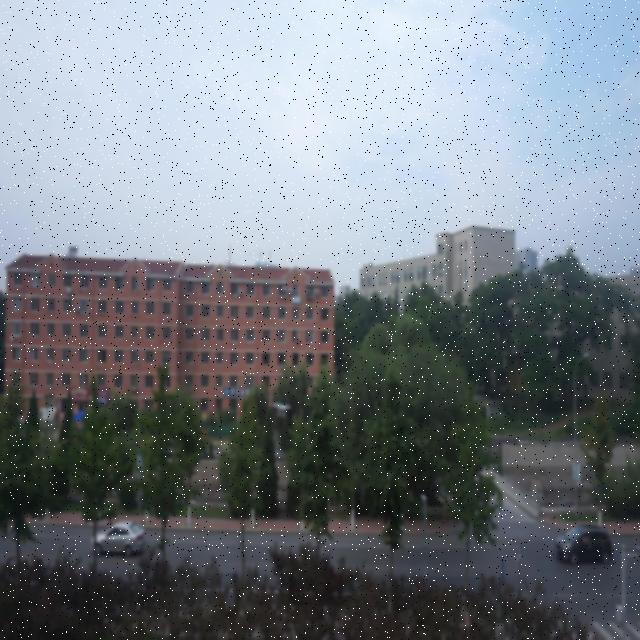UAV: (272, 403, 291, 417)
